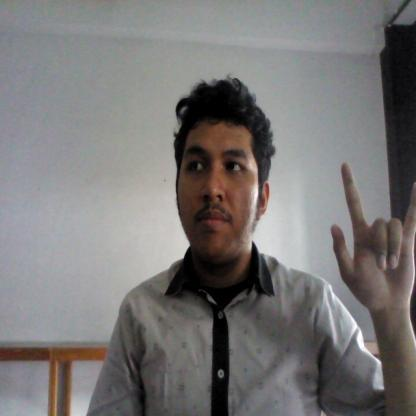ILoveYou: (328, 149, 416, 328)
